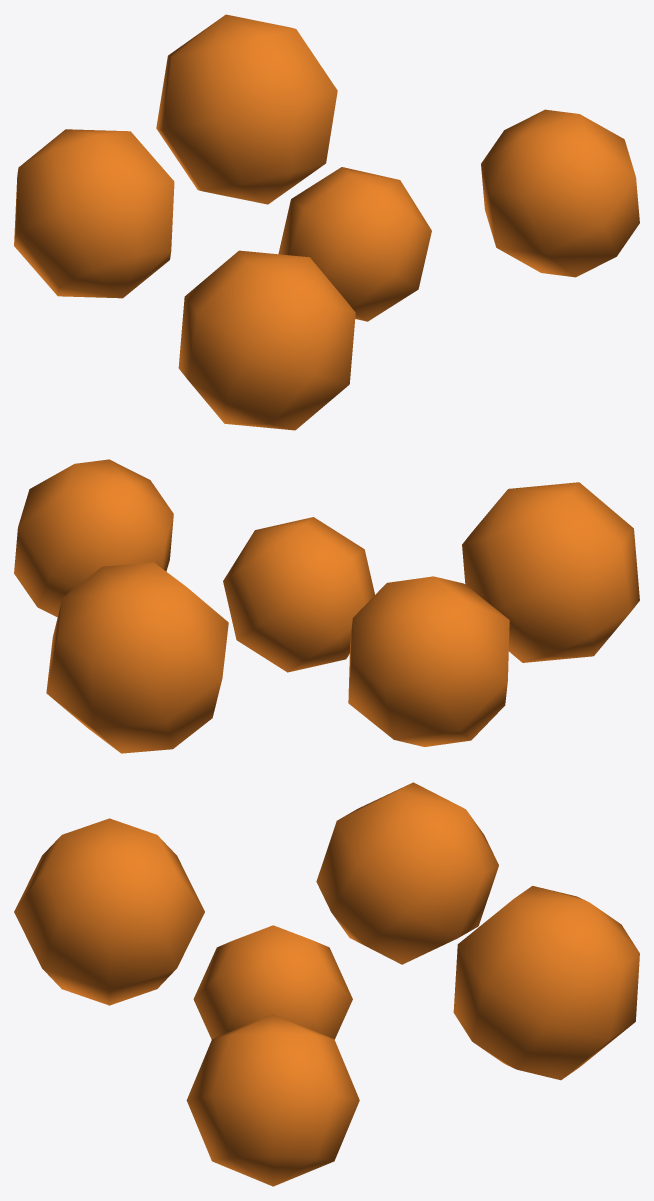
File: wheat_seeds.glb
3 renders of one model, top to bottom at view 1: azimuth 30°, elevation 25°; view 2: azimuth 150°, elevation 25°; view 3: azimuth 270°, elevation 25°, orthographic.
Parts seen in each view (by area): view 1: wheat_seeds; view 2: wheat_seeds; view 3: wheat_seeds.
Part boxes in pixels (x1,y1,x2,y2): wheat_seeds: [14, 14, 639, 430]; wheat_seeds: [14, 459, 639, 753]; wheat_seeds: [14, 782, 639, 1186].
Bounding box in the file's own units: 0.2934 × 0.0978 × 0.2855.
